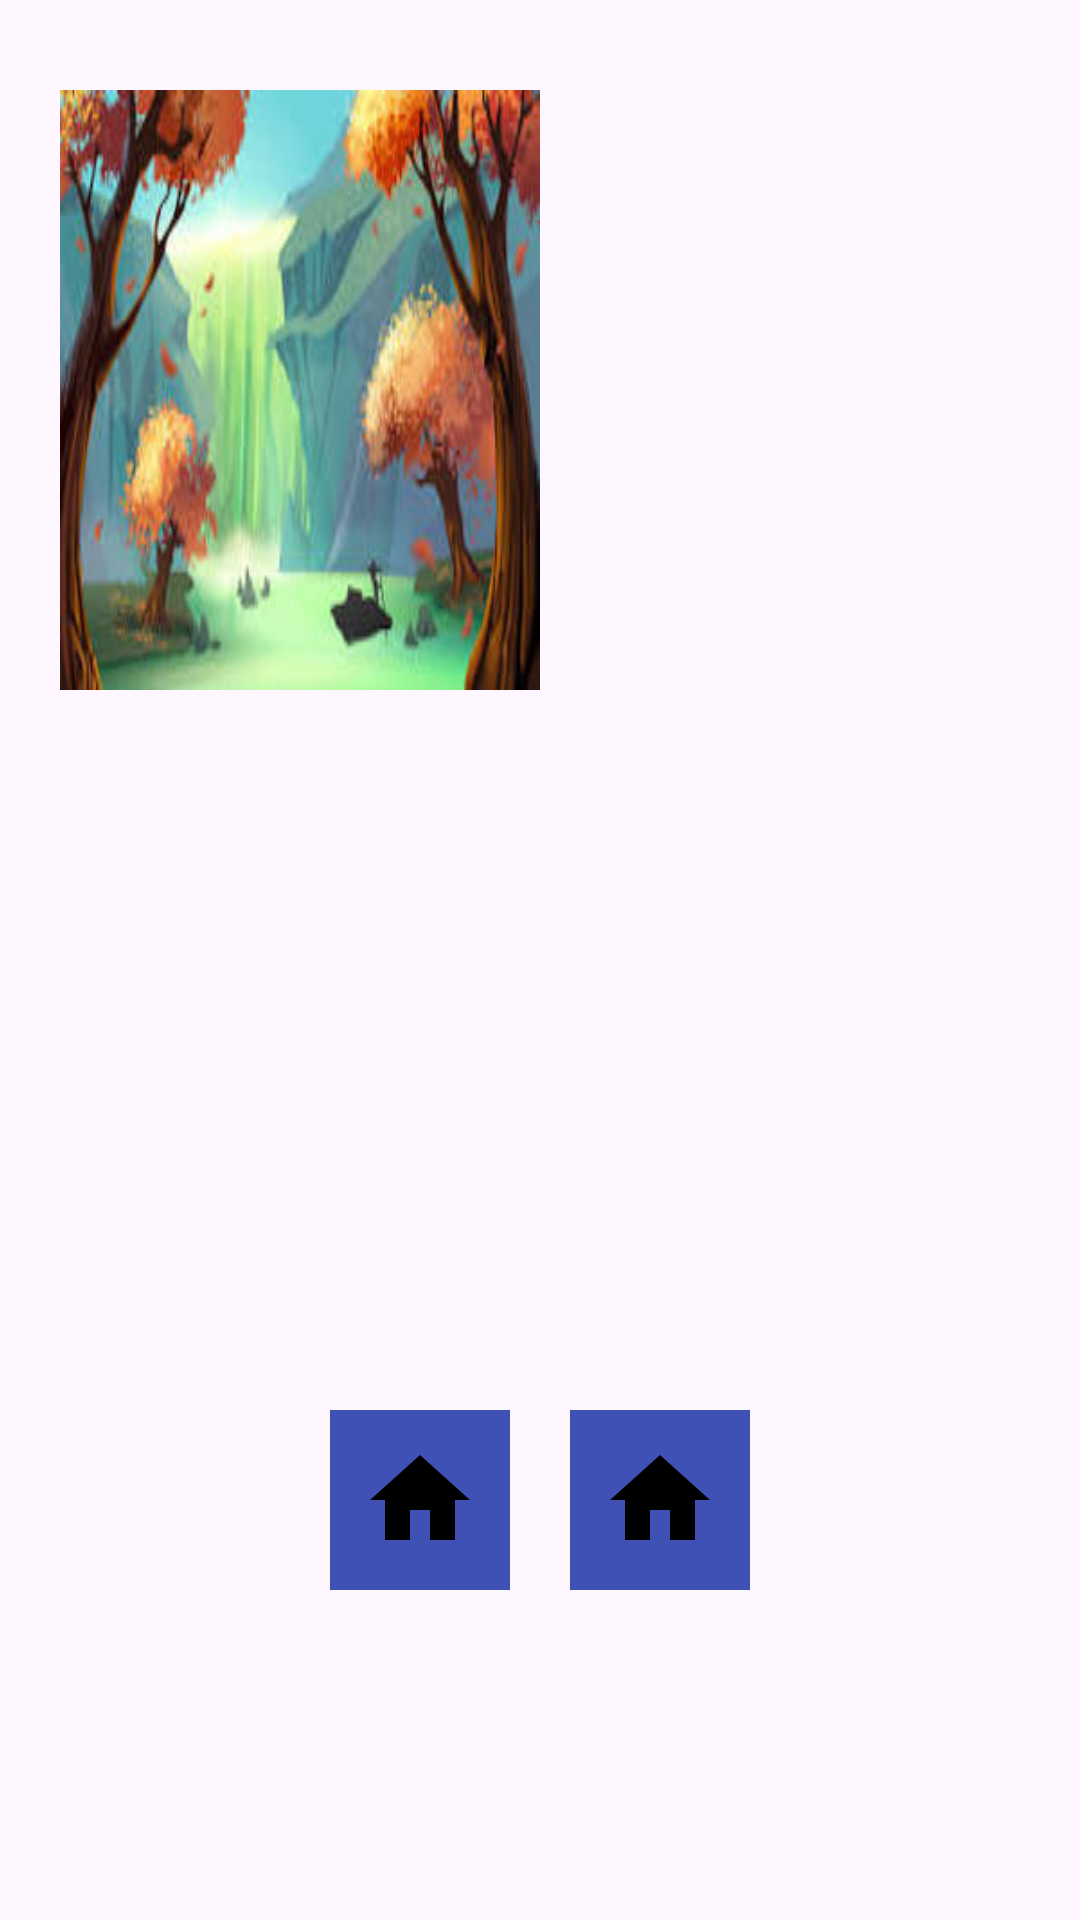

Point at icon controls on the screen. Image size 1080px x 1920px, points as point (x, y).
home icon: point (420, 1500), point (660, 1500)
